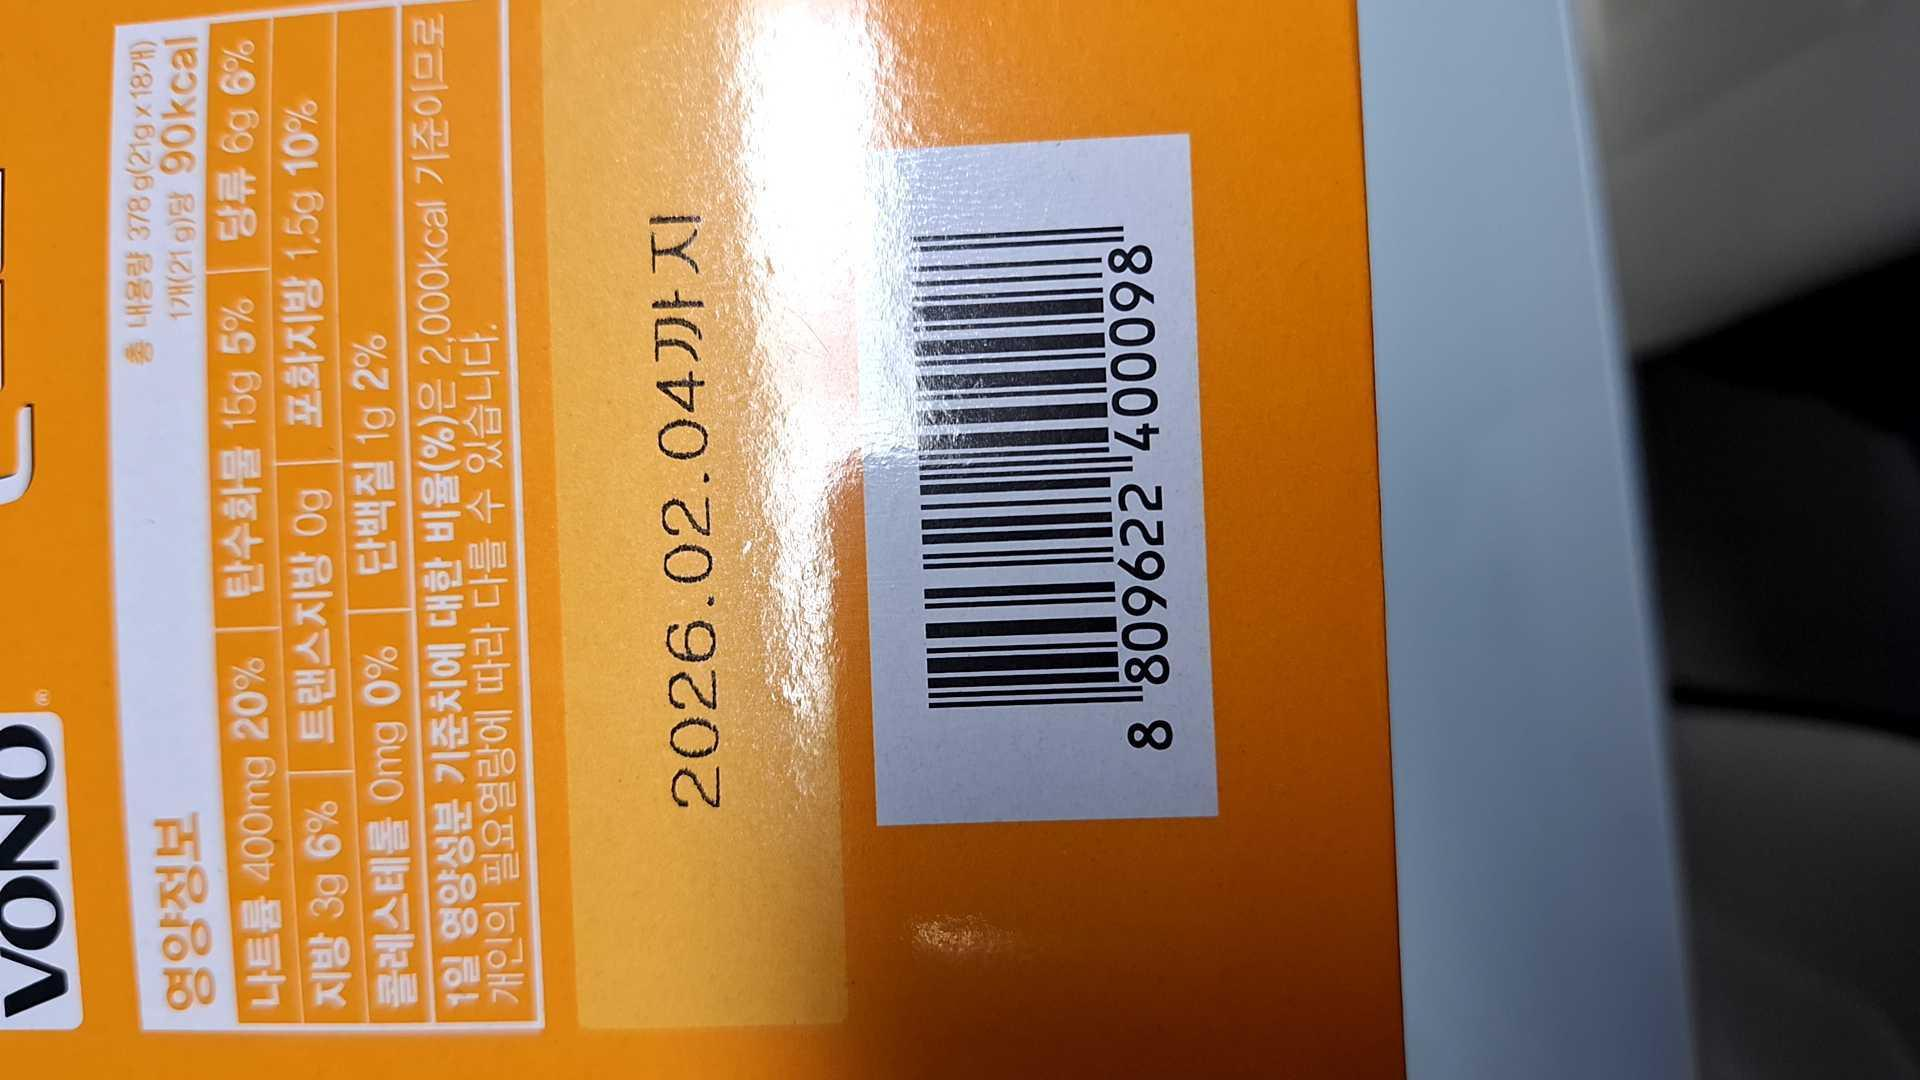cola-2000-2025-7-8: (874, 178, 1192, 782)
